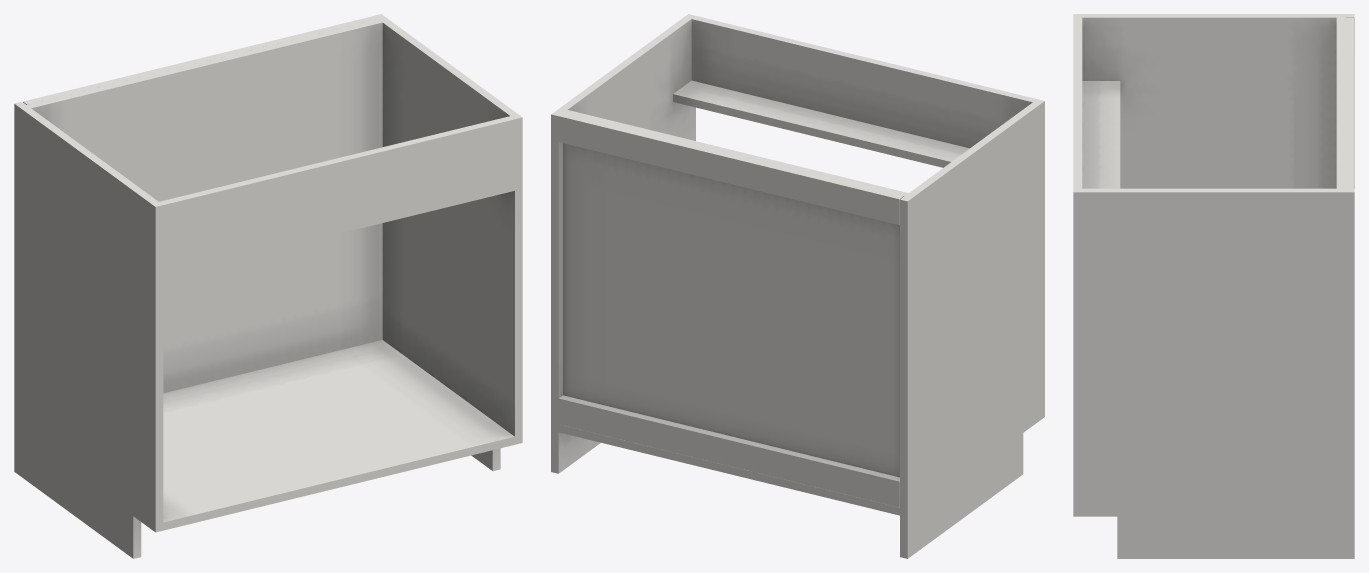
The model's file is sink-base-false-drawer-doors-off.glb.
The picture shows the model from 3 angles, left to right: view 1: azimuth 30°, elevation 25°; view 2: azimuth 150°, elevation 25°; view 3: azimuth 270°, elevation 25°; orthographic projection. The views are drawn at different scales.
Parts seen in each view (by area): view 1: part_0; view 2: part_0; view 3: part_0.
Boxes of the visible parts, x1,y1,x2,y2 form: part_0: (14,14,522,558); part_0: (551,14,1044,558); part_0: (1073,14,1354,558).
Size of the model in its own units: 0.9144 by 0.8763 by 0.6096.
Materials: 1 (1 with a texture image).
